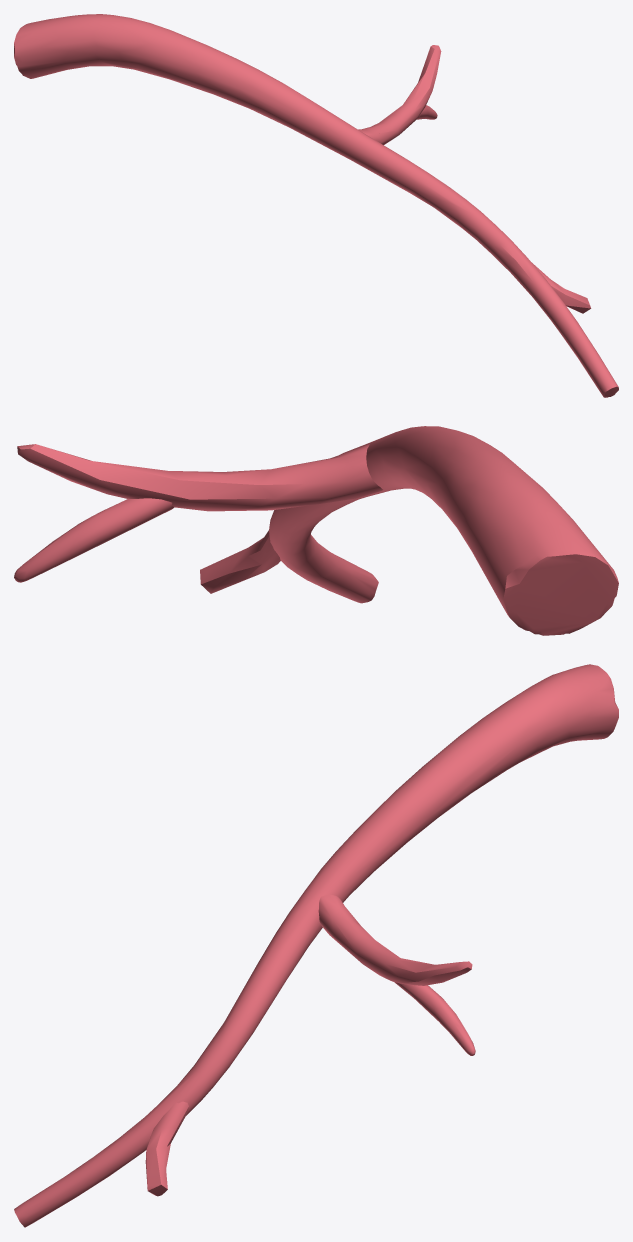
Rendered from fma8639_cx265.glb.
3 renders of one model, top to bottom at view 1: azimuth 30°, elevation 25°; view 2: azimuth 150°, elevation 25°; view 3: azimuth 270°, elevation 25°, orthographic. The views are drawn at different scales.
Parts seen in each view (by area): view 1: FMA8639_CX265; view 2: FMA8639_CX265; view 3: FMA8639_CX265.
Part boxes in pixels (x1,y1,x2,y2): FMA8639_CX265: (14, 14, 618, 397); FMA8639_CX265: (14, 426, 618, 635); FMA8639_CX265: (14, 664, 618, 1227).
Bounding box in the file's own units: 0.0631 × 0.0445 × 0.0669.
